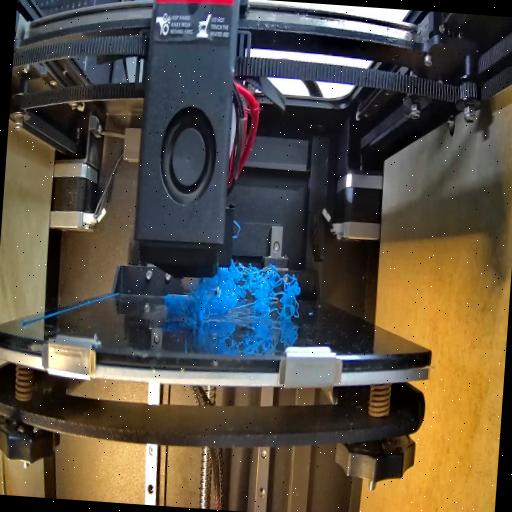spaghetti: (210, 264, 300, 320), (182, 284, 212, 328)
